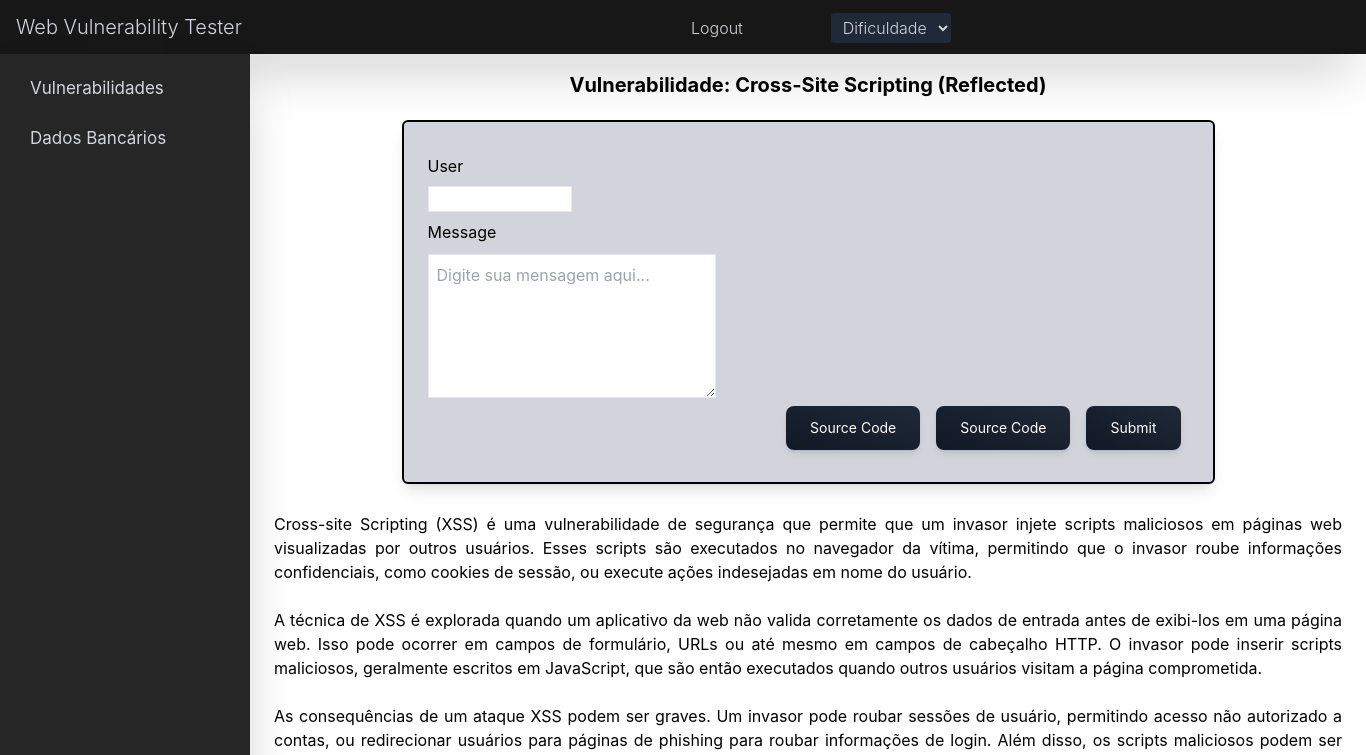
Test: CrossSiteRflected Component › should submit user and message and display the result
Type "JohnDoe" into the field labelled "User" at (500,199), box [428,186,572,212]
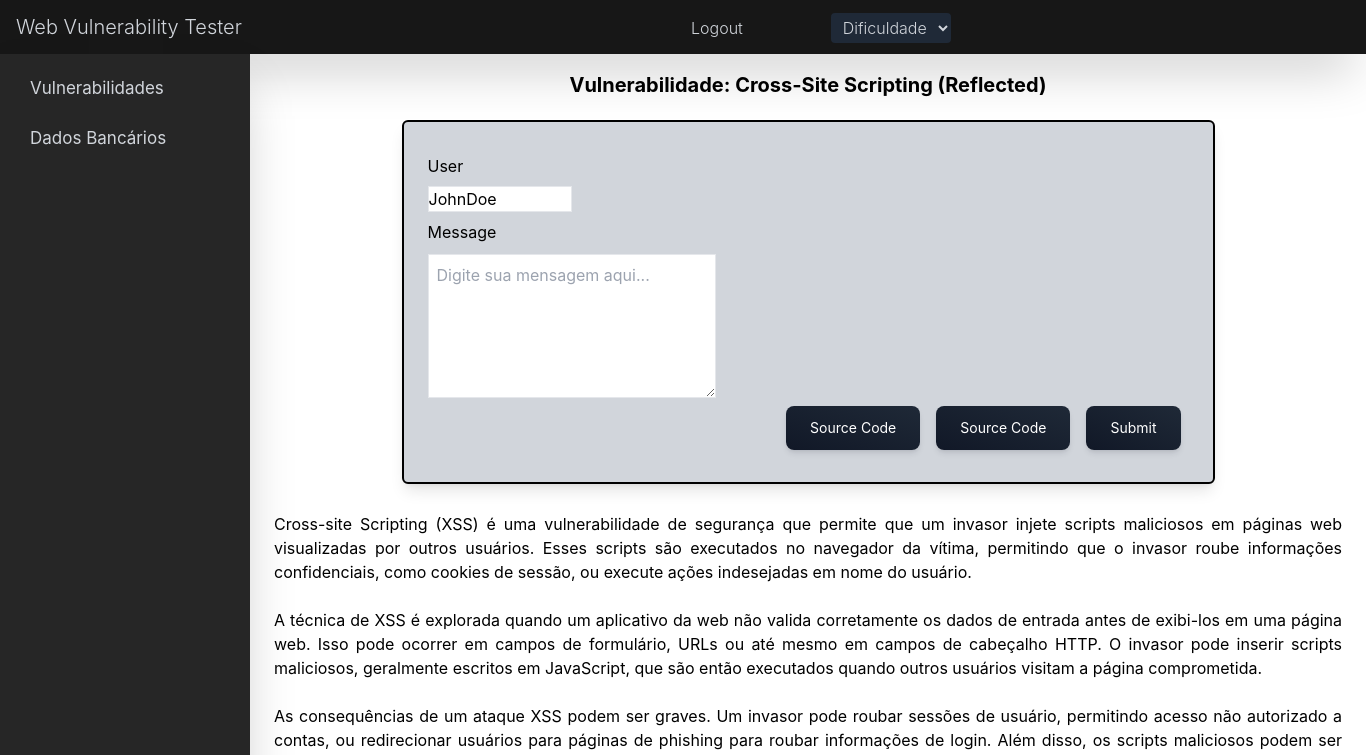
Type "Hello World" into the text box labelled "Message" at (572,326), box [428,254,716,398]
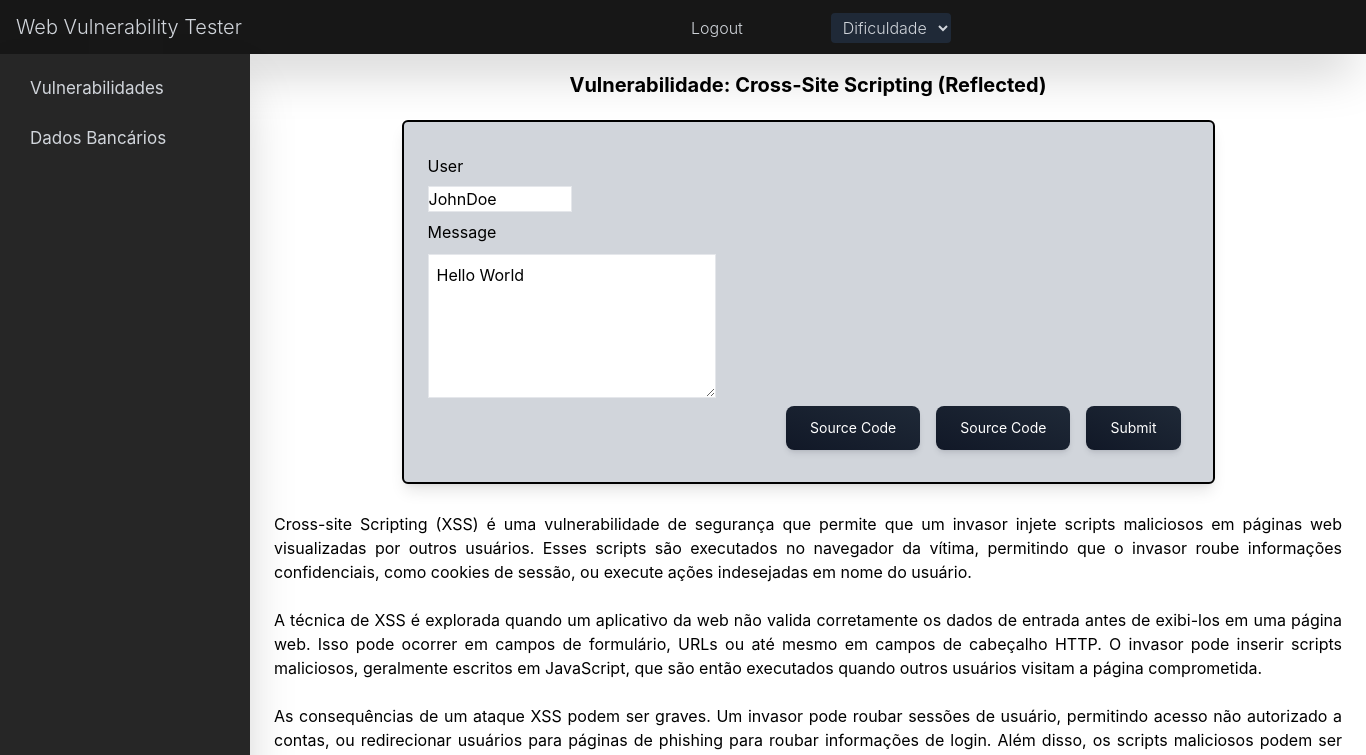
Click the button "Submit" at (1133,428), box [1086,406,1180,450]
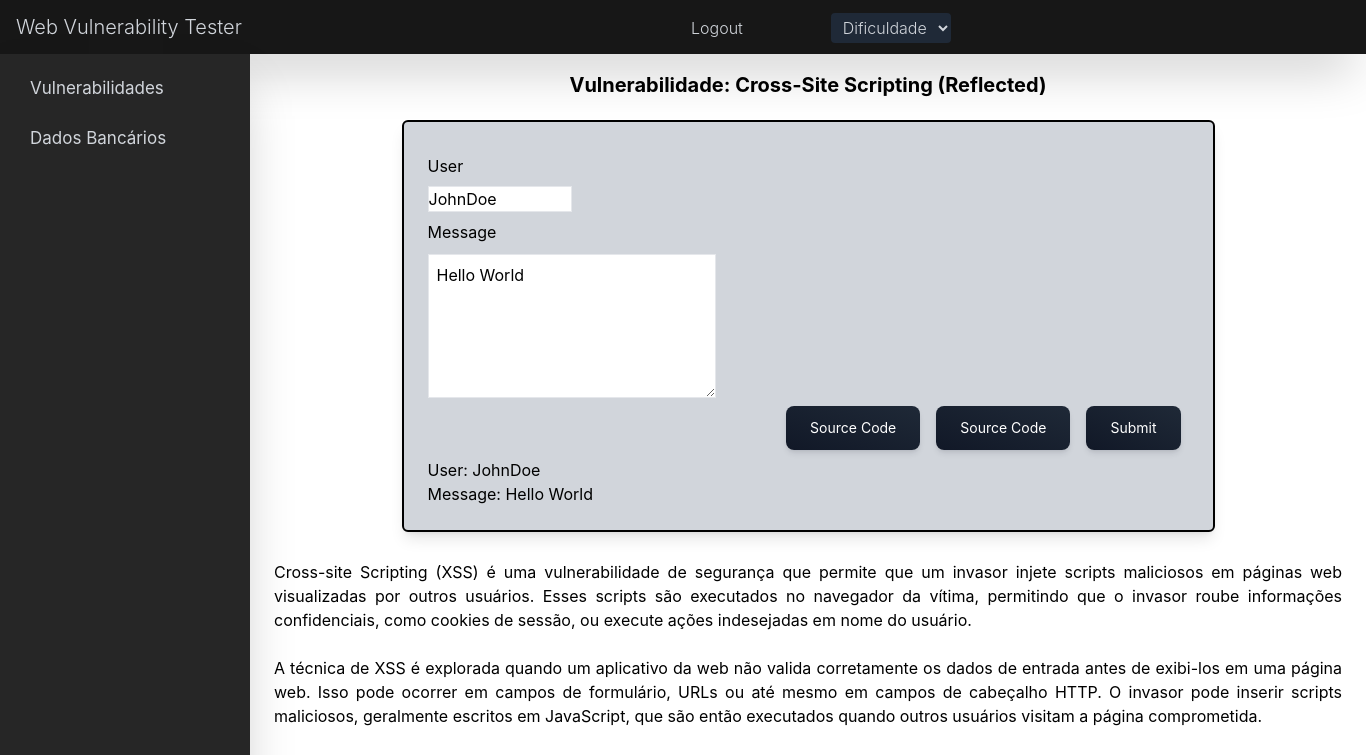
Expected: the text "User: JohnDoe" is shown, [428,460,540,480]
Expected: the text "Message: Hello World" is shown, [428,484,593,504]
